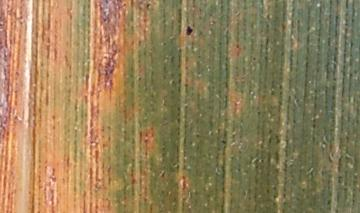tarspot: (184, 23, 194, 38), (219, 138, 227, 145)
